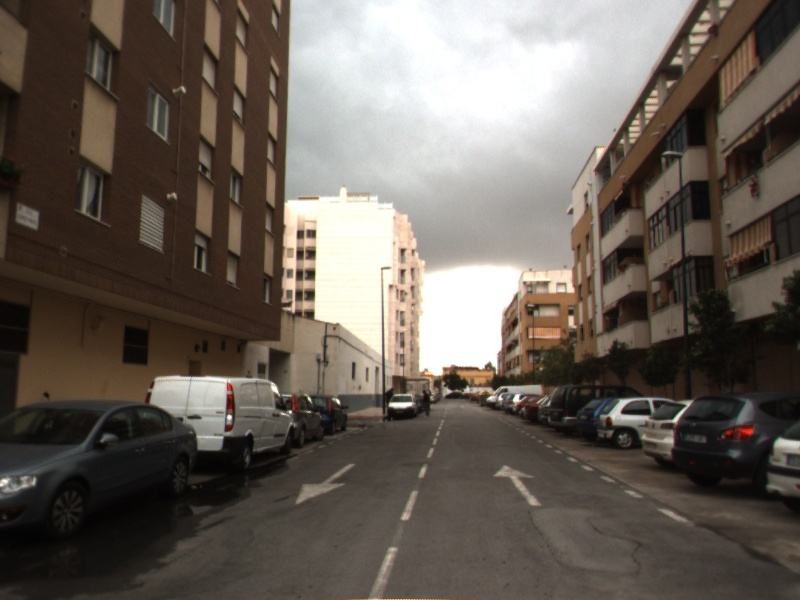STRAIGHT: (491, 463, 545, 508)
